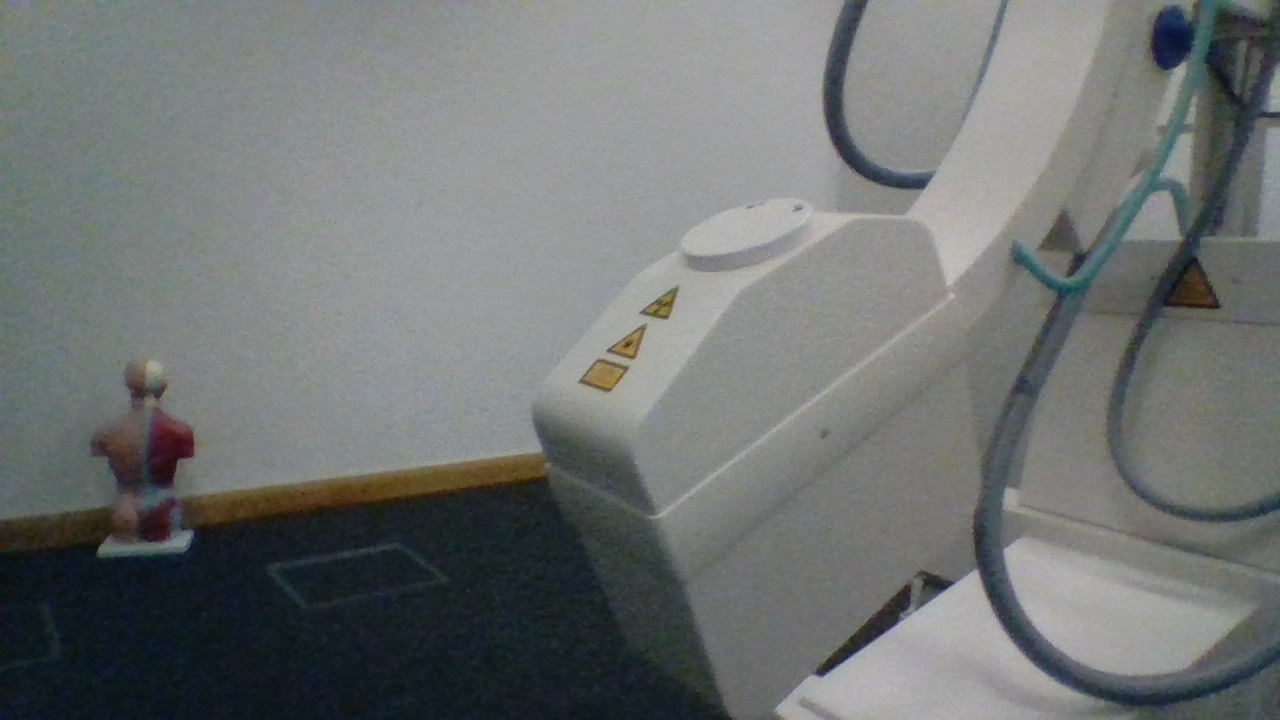carmDOWN: (530, 201, 956, 513)
